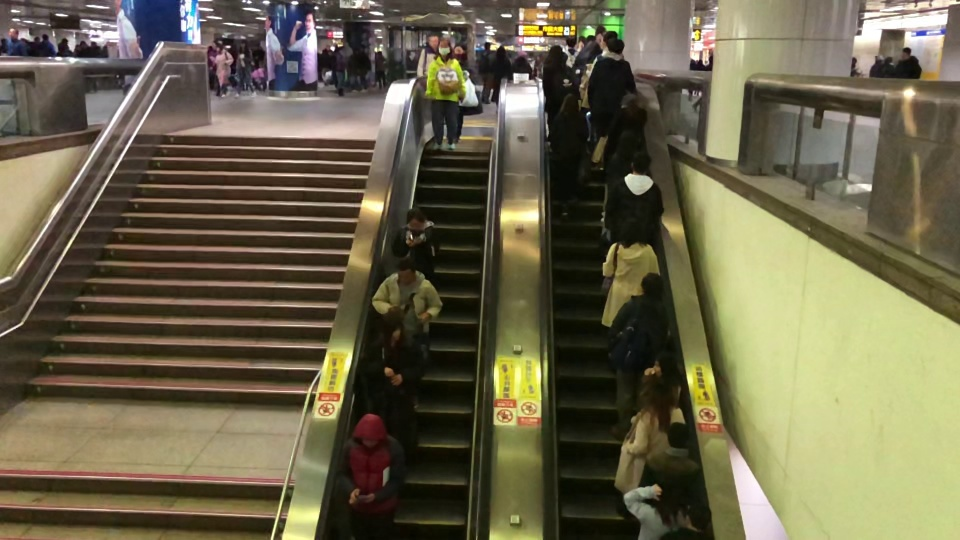person_head: (353, 412, 387, 447), (614, 218, 651, 248), (644, 380, 679, 410), (391, 258, 416, 284), (664, 424, 690, 448), (663, 482, 691, 504), (378, 317, 402, 342), (640, 272, 664, 297), (688, 506, 710, 530), (629, 152, 651, 175), (403, 210, 426, 230), (650, 357, 674, 376), (560, 94, 581, 115), (616, 93, 638, 112), (437, 37, 453, 59), (608, 39, 623, 60), (425, 34, 440, 50), (549, 43, 564, 59), (452, 43, 465, 60), (901, 47, 915, 61), (603, 31, 616, 46), (594, 24, 606, 38), (849, 55, 860, 68), (495, 44, 506, 56), (872, 53, 884, 64), (517, 50, 527, 62), (8, 29, 19, 39), (481, 42, 491, 51), (884, 55, 893, 65), (41, 34, 50, 43), (239, 40, 247, 50), (209, 41, 218, 48), (706, 54, 713, 63), (220, 45, 227, 53)
person_vbox: (606, 271, 685, 434), (595, 218, 664, 365), (613, 380, 700, 496), (624, 425, 709, 524), (596, 93, 653, 234), (343, 411, 406, 534), (357, 317, 419, 428), (589, 39, 640, 167), (600, 151, 664, 246), (546, 95, 593, 217), (620, 477, 711, 540), (372, 259, 443, 332), (424, 37, 463, 151), (623, 355, 684, 417), (390, 210, 441, 283), (543, 48, 581, 135), (446, 44, 468, 142), (659, 506, 715, 540), (576, 24, 609, 75), (585, 33, 624, 76), (413, 34, 441, 87), (690, 54, 715, 112), (233, 39, 257, 99), (206, 39, 229, 93), (475, 42, 494, 105), (213, 44, 233, 99), (492, 43, 510, 103), (894, 47, 923, 83), (509, 51, 534, 80), (4, 28, 25, 56), (844, 54, 862, 83), (866, 55, 884, 80), (375, 51, 387, 88), (36, 34, 56, 56), (879, 54, 895, 80)
